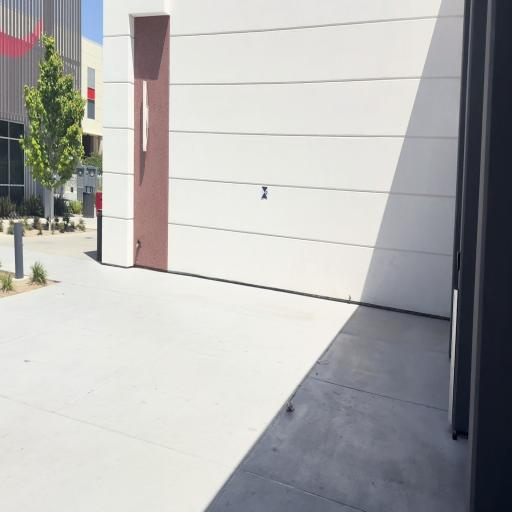target0: (261, 186, 268, 200)
